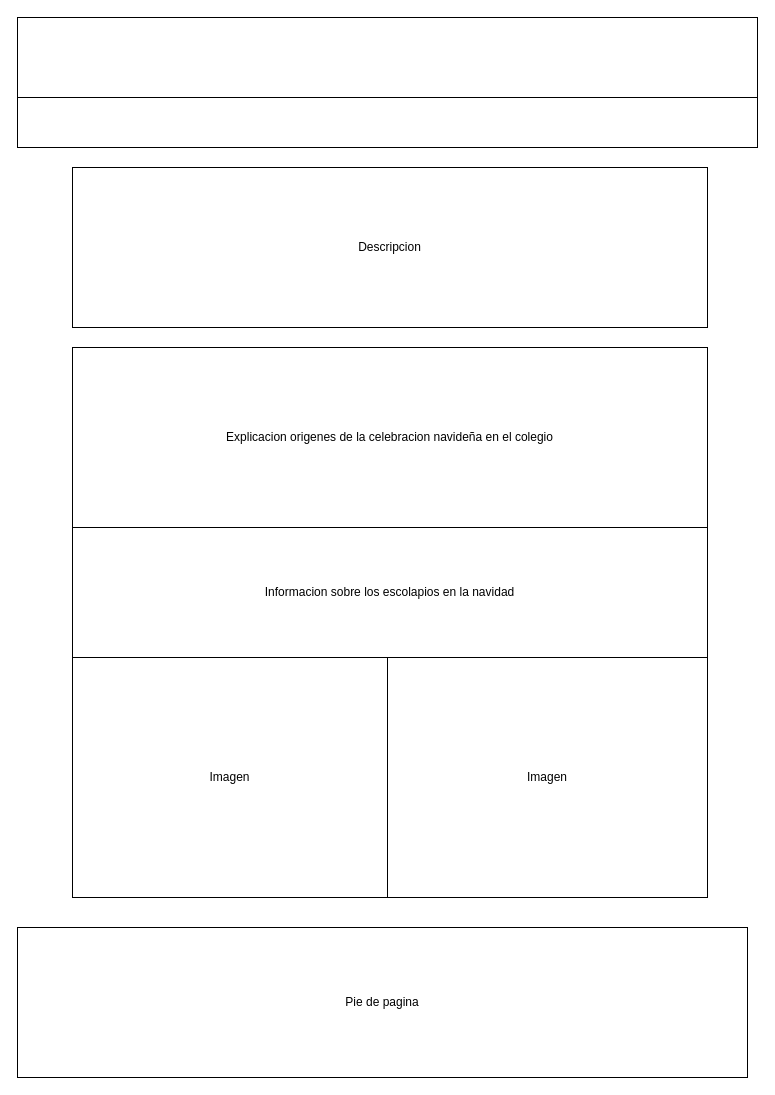
This 775x1095 diagram has some shape labels left out. The box of each missing label's shape, as (x1, y1, x2, y2) in pixels:
Cabecera: (16, 16, 758, 98)
Menu de navegacion: (16, 96, 758, 148)
